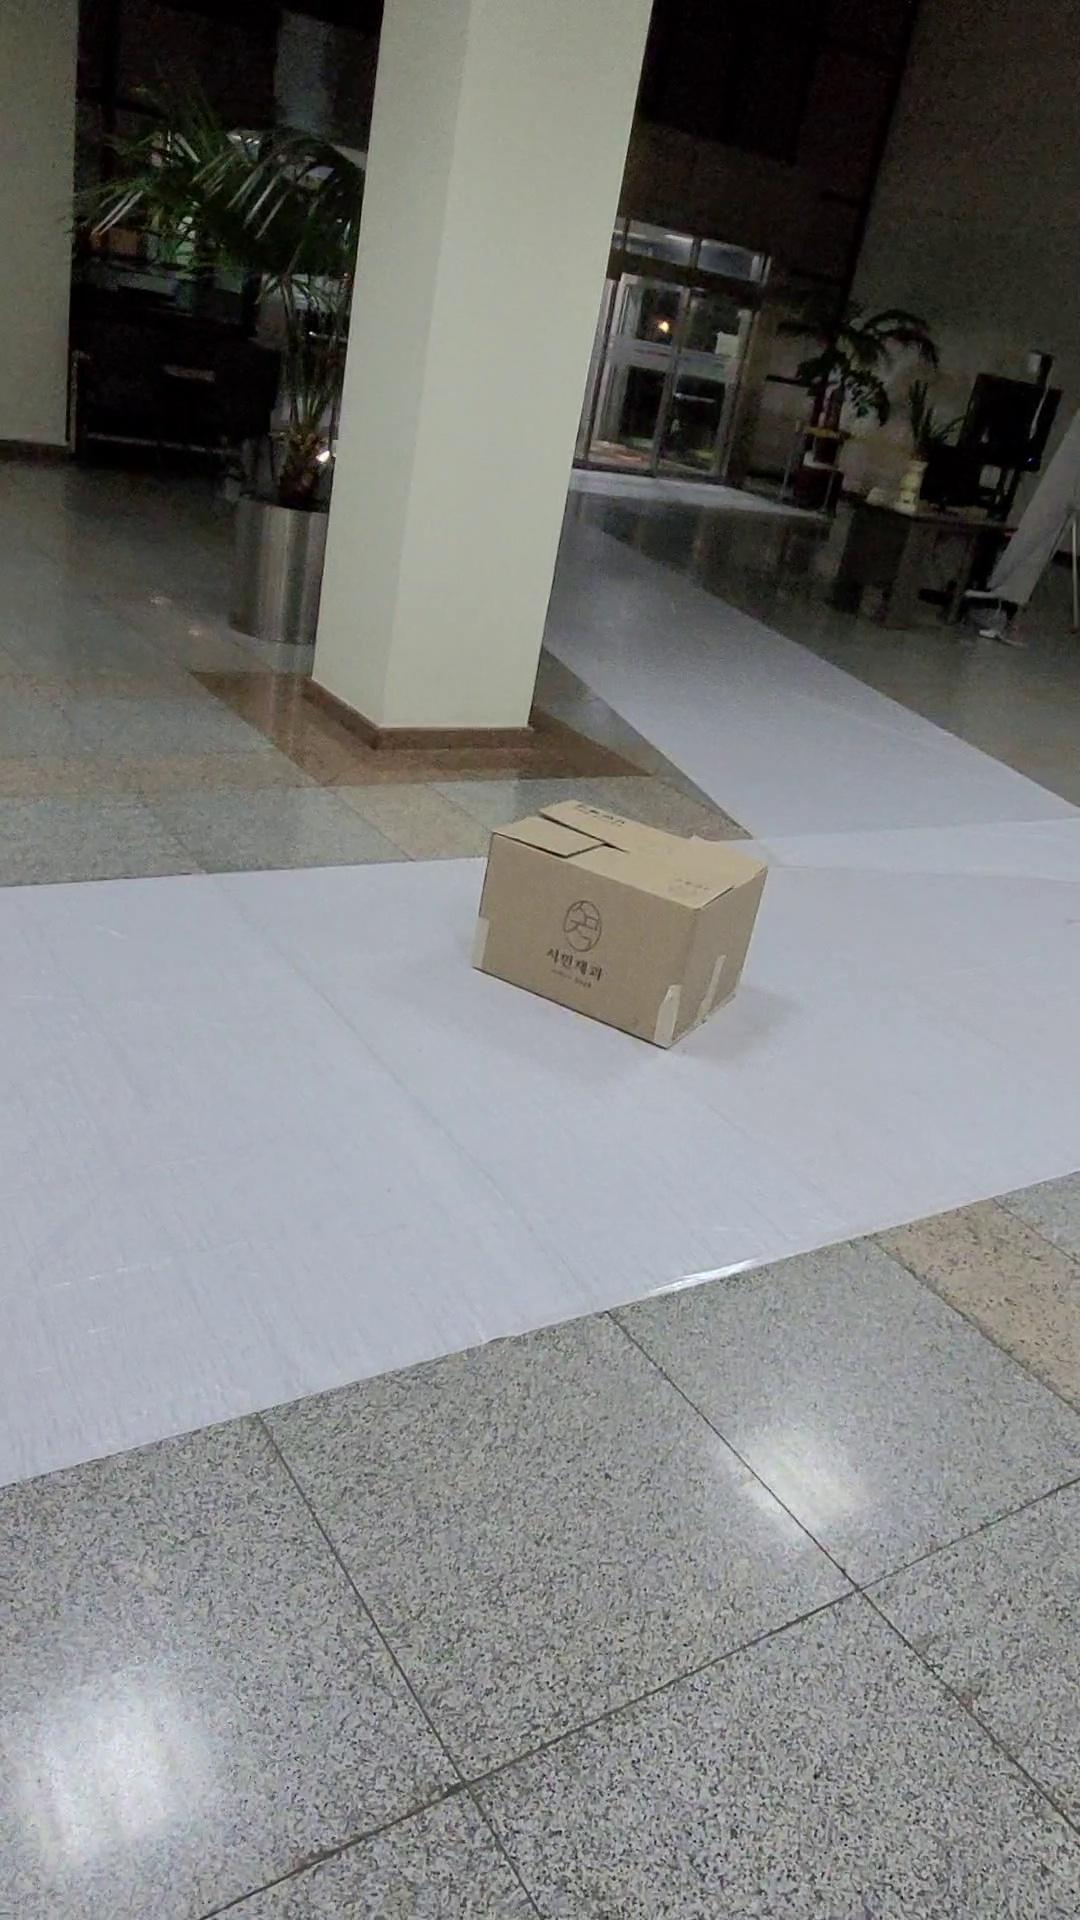Box: (446, 764, 800, 1068)
